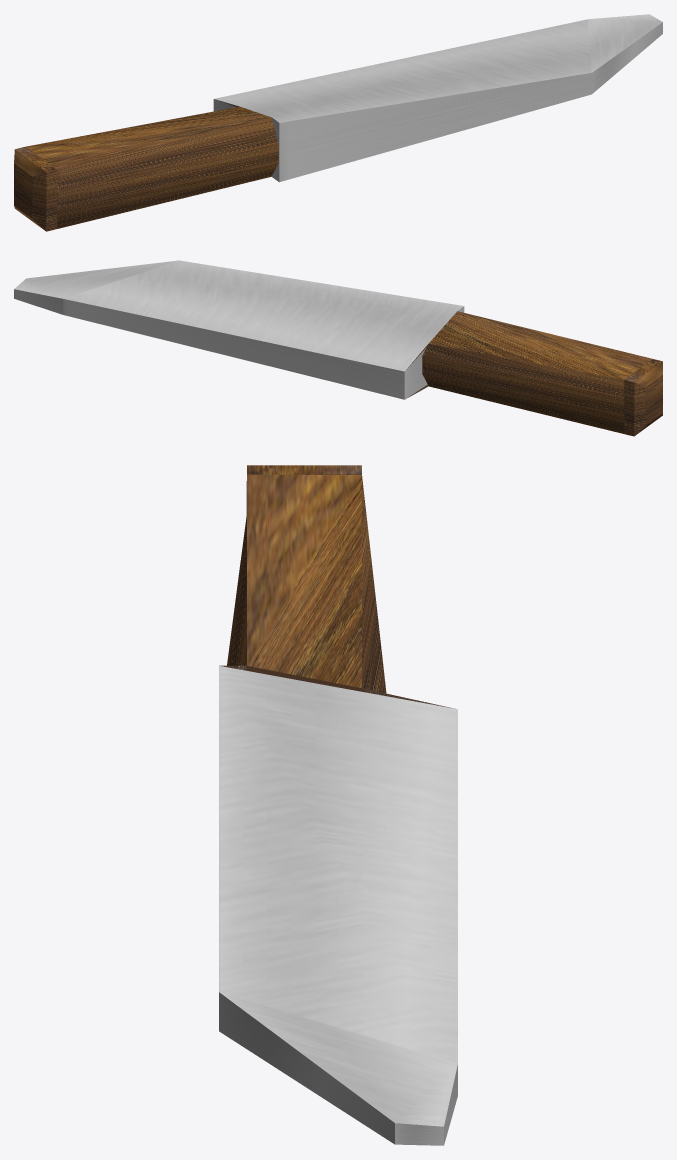
Rendered from mes.obj.
3 renders of one model, top to bottom at view 1: azimuth 30°, elevation 25°; view 2: azimuth 150°, elevation 25°; view 3: azimuth 270°, elevation 25°, orthographic. The views are drawn at different scales.
Parts seen in each view (by area): view 1: Cube; view 2: Cube; view 3: Cube.
Boxes of the visible parts, left/top/right/bottom form: Cube: left=14, top=14, right=662, bottom=231; Cube: left=14, top=260, right=662, bottom=436; Cube: left=219, top=465, right=457, bottom=1145.
Bounding box in the file's own units: 0.5858 × 0.05 × 0.1.
Materials: 3 (3 with a texture image).
